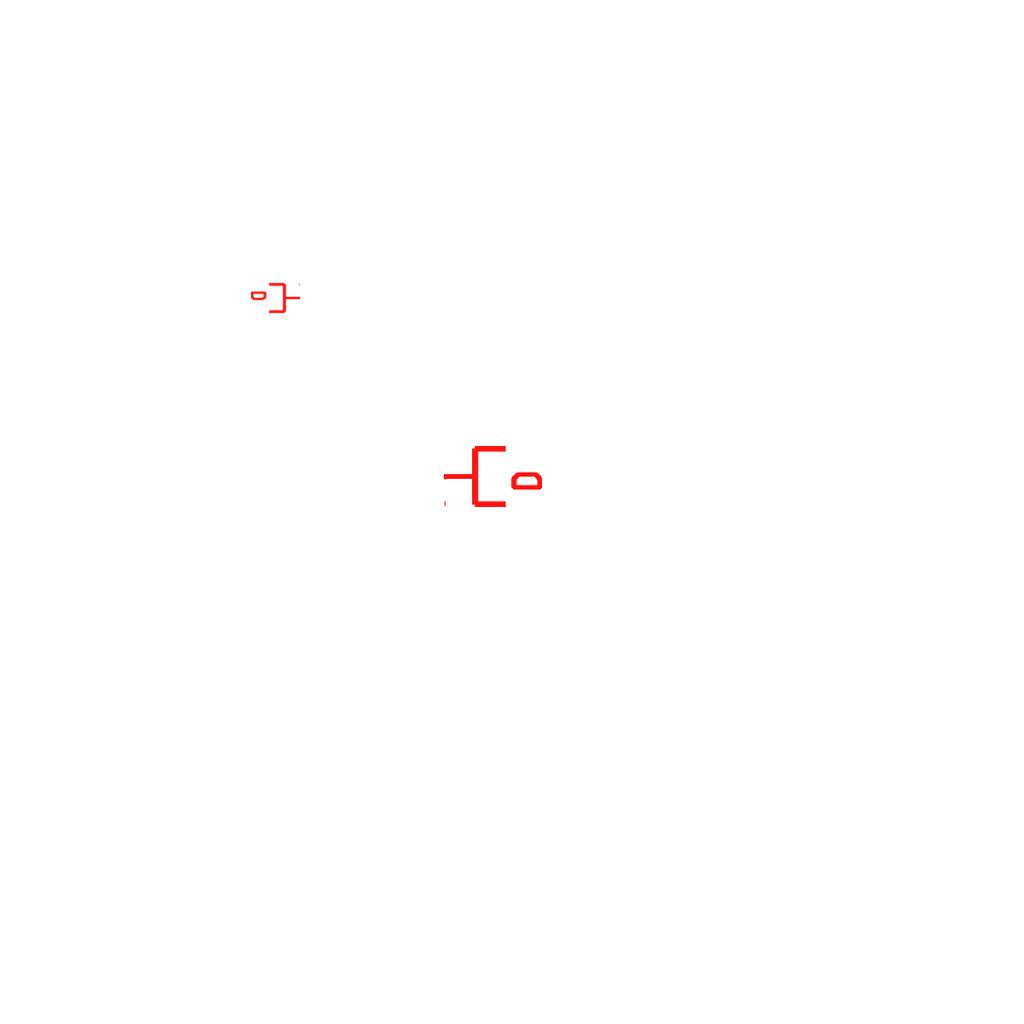Datenanschluss_einfach: (442, 442, 542, 511), (251, 281, 301, 315)
